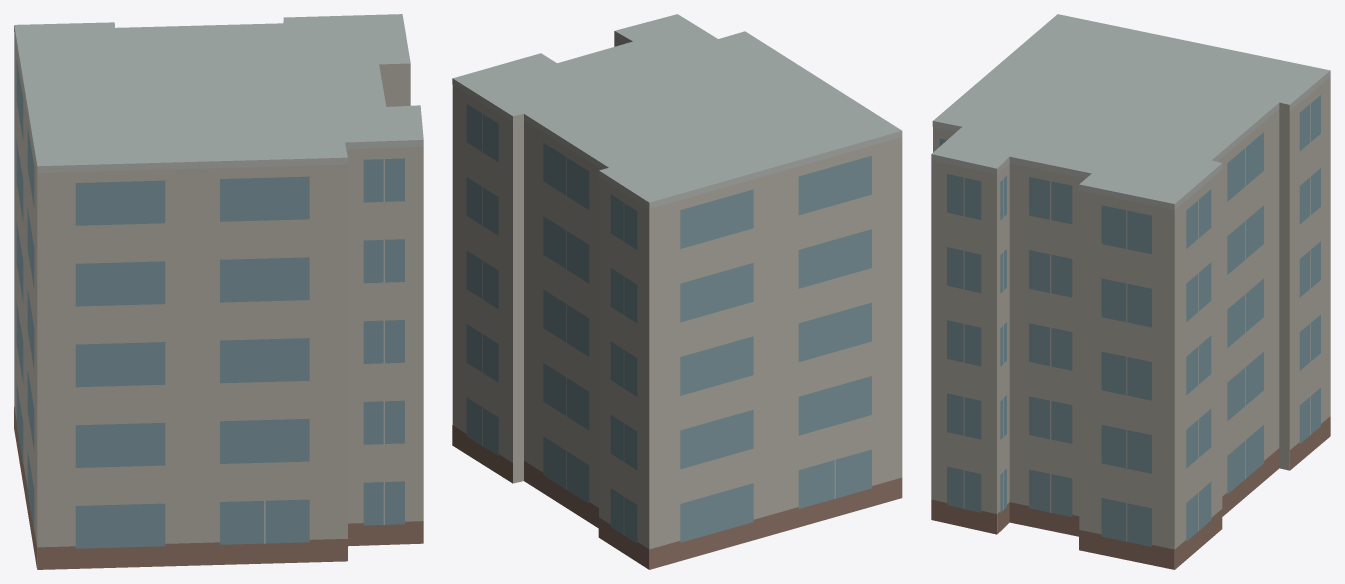
The model's file is survey-upis-32711795.glb.
The picture shows the model from 3 angles, left to right: view 1: azimuth 30°, elevation 25°; view 2: azimuth 150°, elevation 25°; view 3: azimuth 270°, elevation 25°; orthographic projection. The views are drawn at different scales.
Parts seen in each view (by area): view 1: survey-upis-32711795.tmp; view 2: survey-upis-32711795.tmp; view 3: survey-upis-32711795.tmp.
Part boxes in pixels (bbox=[...]): survey-upis-32711795.tmp: bbox=[14, 14, 423, 569]; survey-upis-32711795.tmp: bbox=[452, 14, 902, 569]; survey-upis-32711795.tmp: bbox=[931, 14, 1330, 569].
Size of the model in its own units: 16.06 by 14.4 by 14.25.
